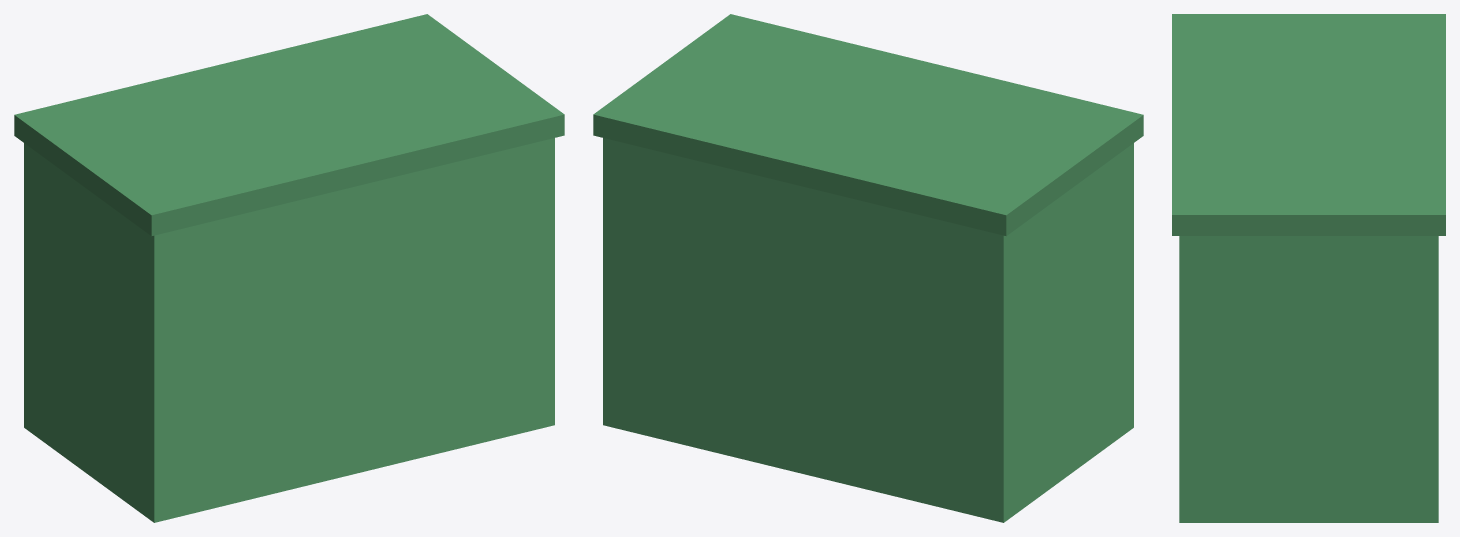
File: dumpster.glb
3 renders of one model, left to right at view 1: azimuth 30°, elevation 25°; view 2: azimuth 150°, elevation 25°; view 3: azimuth 270°, elevation 25°, orthographic.
Visible parts, largest first — view 1: dumpster; view 2: dumpster; view 3: dumpster.
Part boxes in pixels (left/top/right/bottom): dumpster: left=14, top=14, right=564, bottom=522; dumpster: left=593, top=14, right=1143, bottom=522; dumpster: left=1172, top=14, right=1445, bottom=522.
Bounding box in the file's own units: 1.65 × 1.19 × 0.95.
